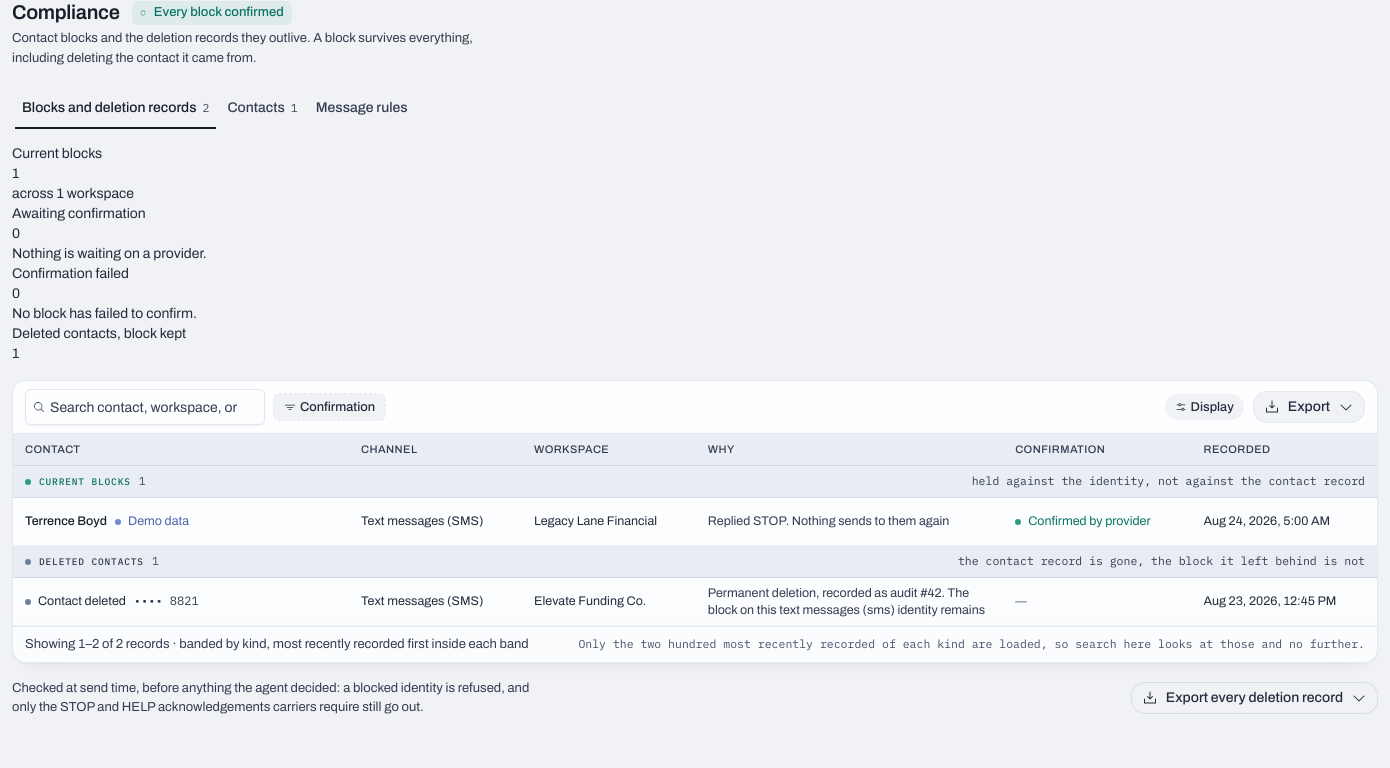
Test case: AdminCompliance page shape › describes only rules the send path enforces, and names what it leaves out
What coordinates should you click on to do the following:
click the tab "Message rules"
I would click on:
 (362, 108)
Its box is [309,96,415,120].
(page scrolled)
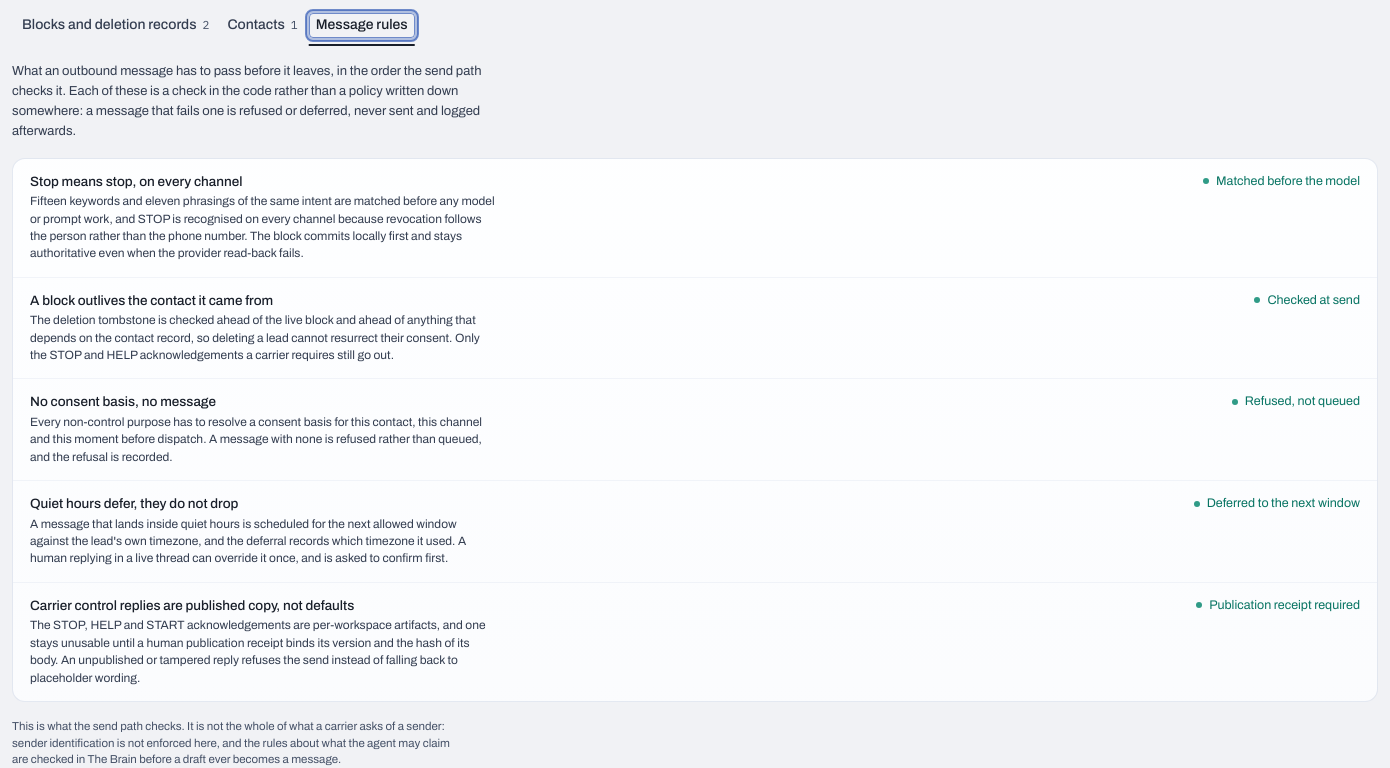
Check: the text "Stop means stop, on every channel" is shown, box [30,174,242,189]
Check: the text "No consent basis, no message" is shown, box [30,394,216,409]
Check: the text "Quiet hours defer, they do not drop" is shown, box [30,496,238,511]
